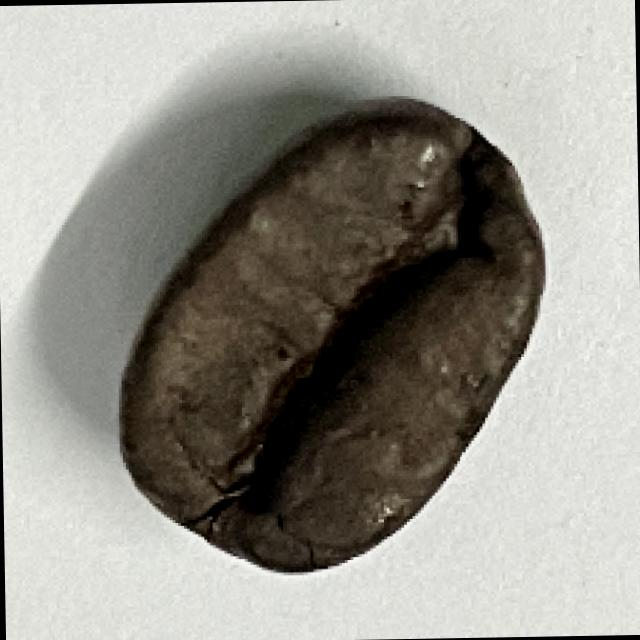bean: (106, 94, 556, 581)
